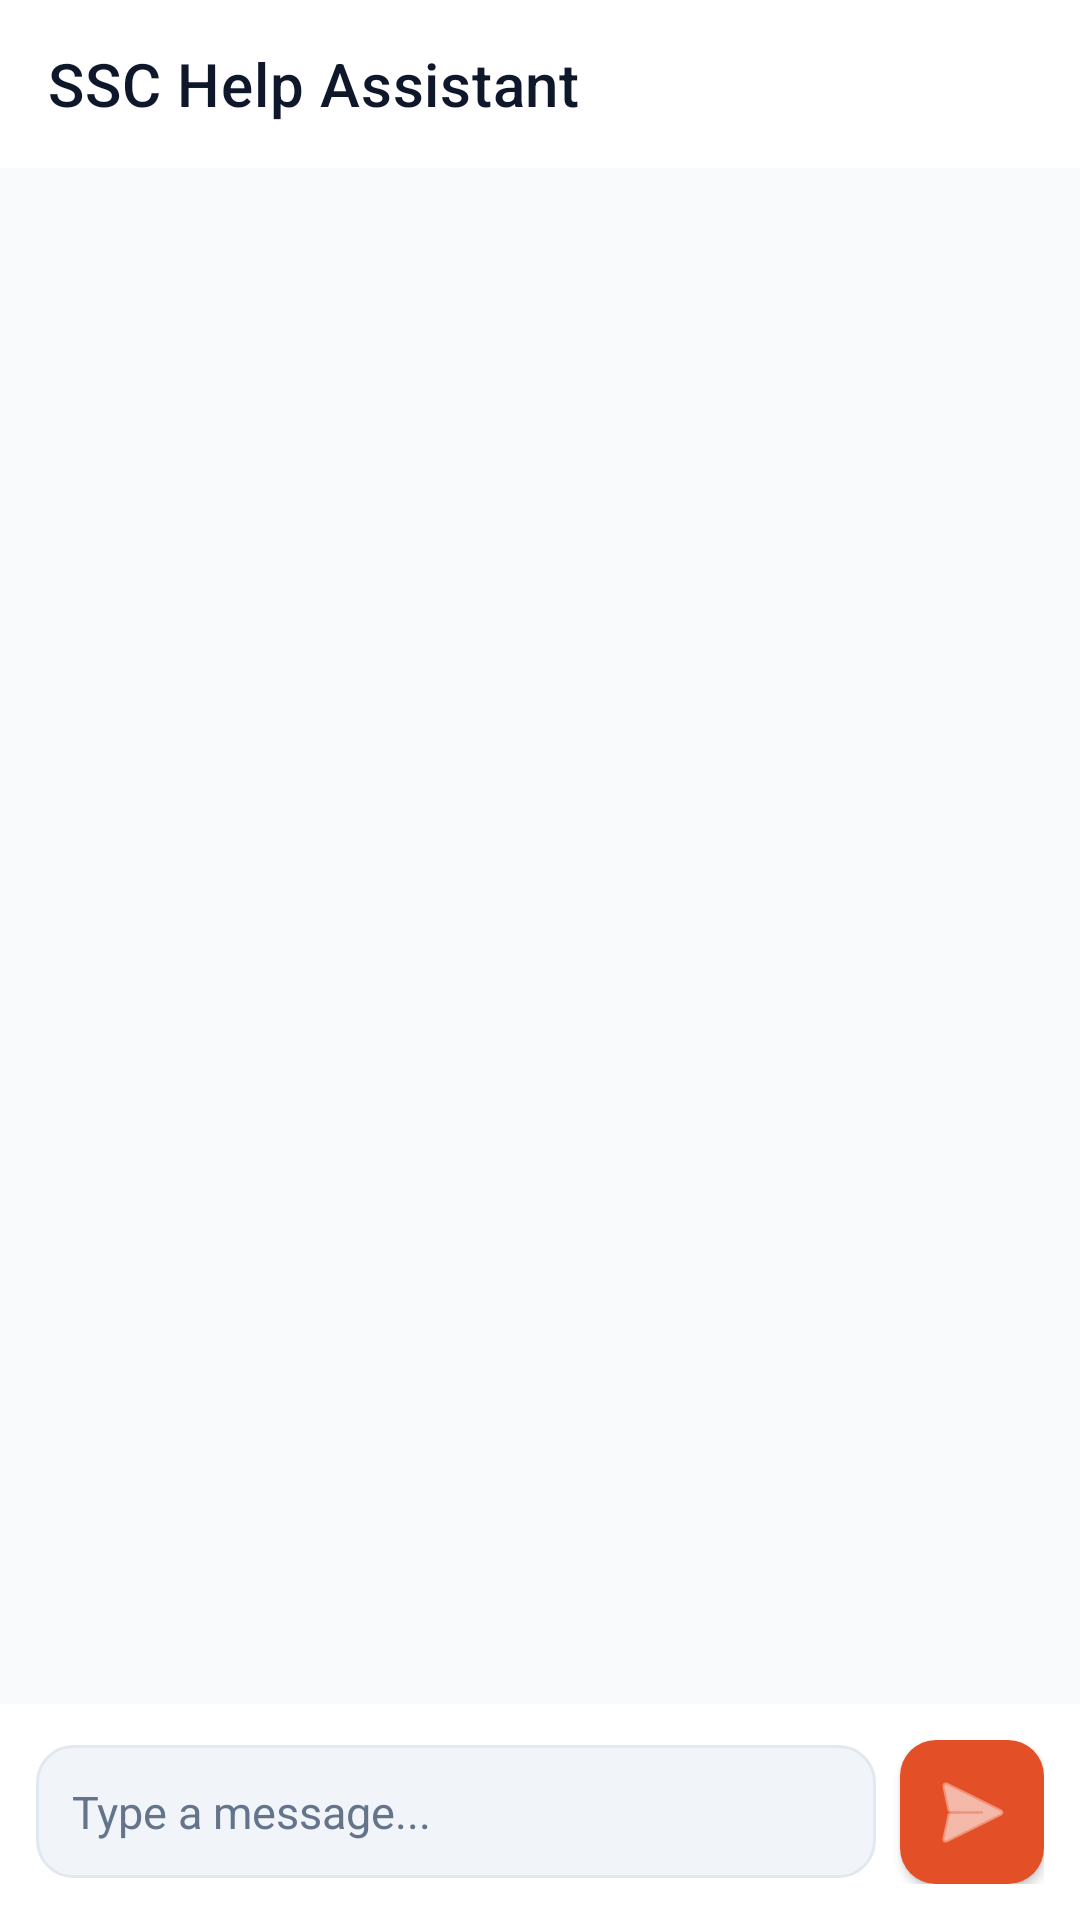

Point at icon controls on the screen. Image size 1080*1920, points as point (x, y).
send: point (972, 1812)
